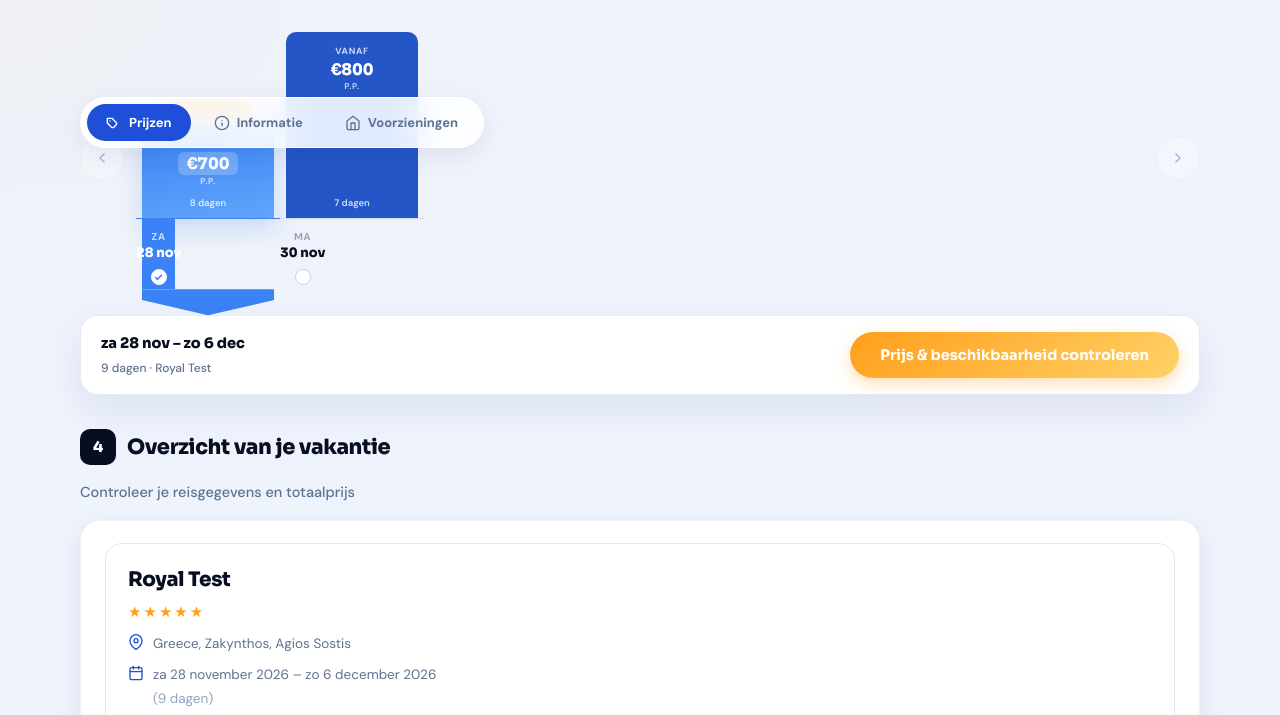
the live check asks about the package the card priced › "No booking fees" and "Hand luggage" appear only once the live check has priced it (Levent, 28 Oct 2026)
This screenshot has width=1280, height=715.
(page scrolled)
Expected: the button "Laagste prijs vanaf €700 p.p. 8 dagen za 28 nov" is shown, [136,7,280,315]
Click the button "Prijs & beschikbaarheid controleren" at (1015, 355), box [850,332,1179,378]
(page scrolled)
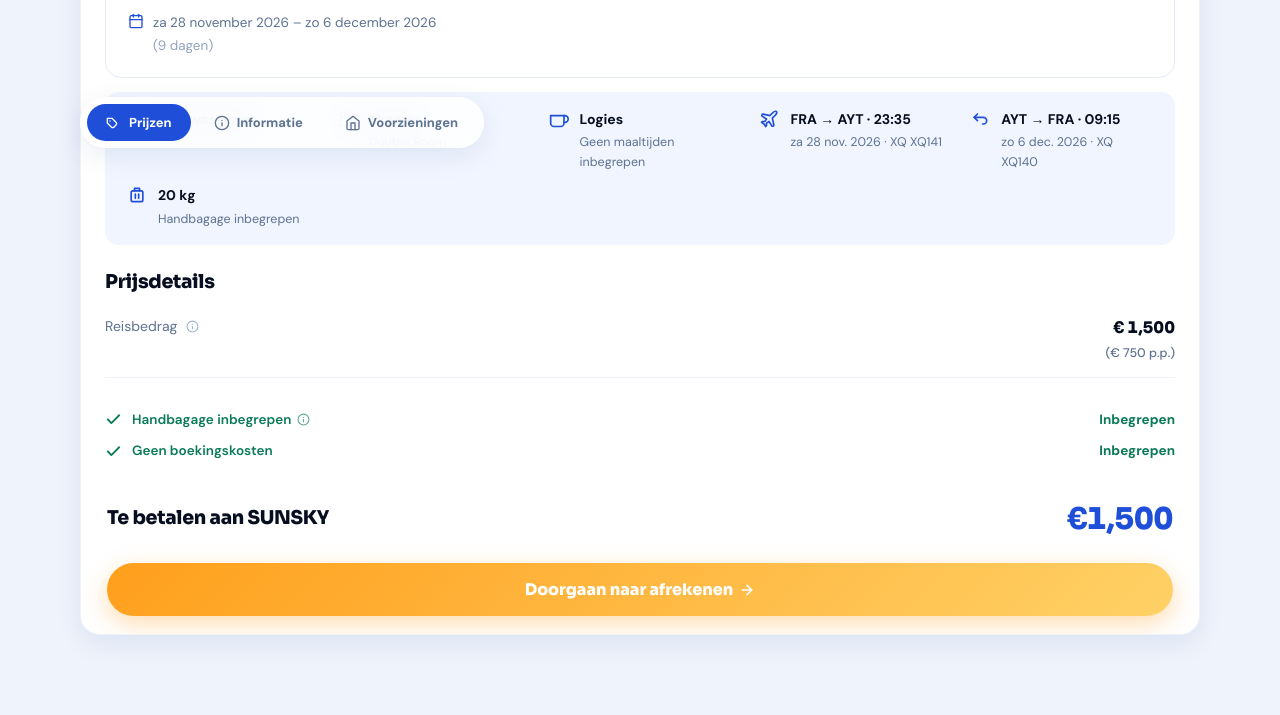
Expected: the element with class "overview-extras" shows "Geen boekingskosten", [132,442,272,459]
Expected: the element with class "overview-extras" shows "Handbagage inbegrepen", [132,411,291,428]
